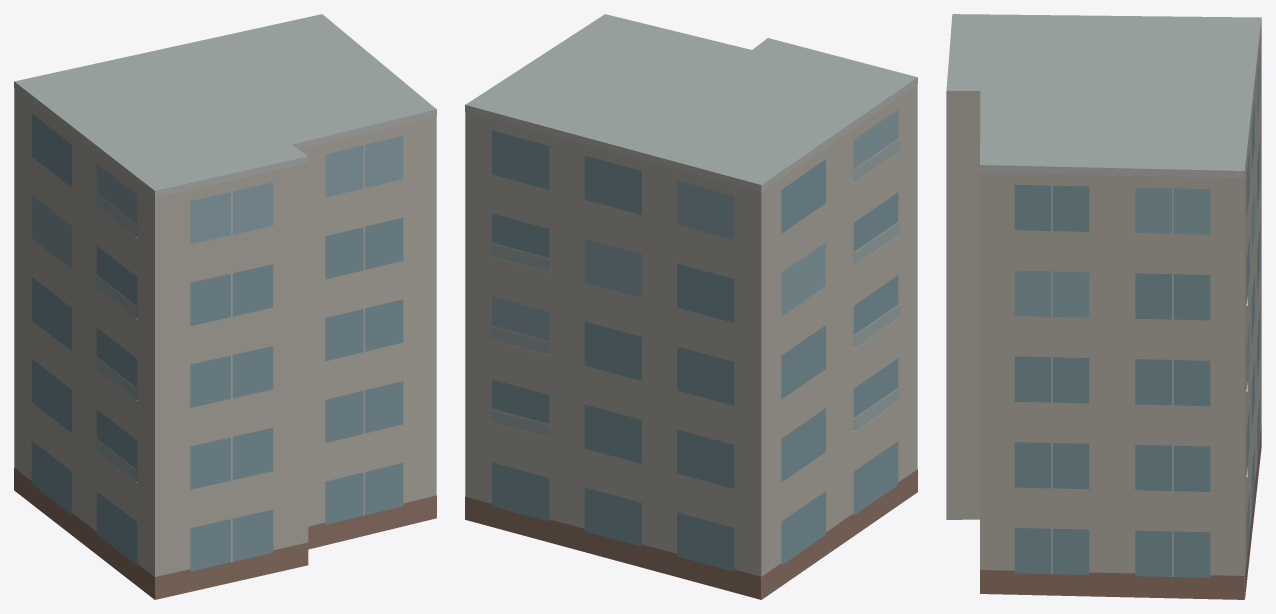
The model's file is survey-upis-32957909.glb.
3 views of the same model, side by side, from view 1: azimuth 30°, elevation 25°; view 2: azimuth 150°, elevation 25°; view 3: azimuth 270°, elevation 25° (orthographic). The views are drawn at different scales.
Visible parts, largest first — view 1: survey-upis-32957909.tmp; view 2: survey-upis-32957909.tmp; view 3: survey-upis-32957909.tmp.
Part boxes in pixels (x1=…): survey-upis-32957909.tmp: x1=14, y1=14, x2=436, y2=599; survey-upis-32957909.tmp: x1=465, y1=14, x2=917, y2=599; survey-upis-32957909.tmp: x1=946, y1=14, x2=1261, y2=599.
Bounding box in the file's own units: 11.36 × 14.45 × 9.63.
